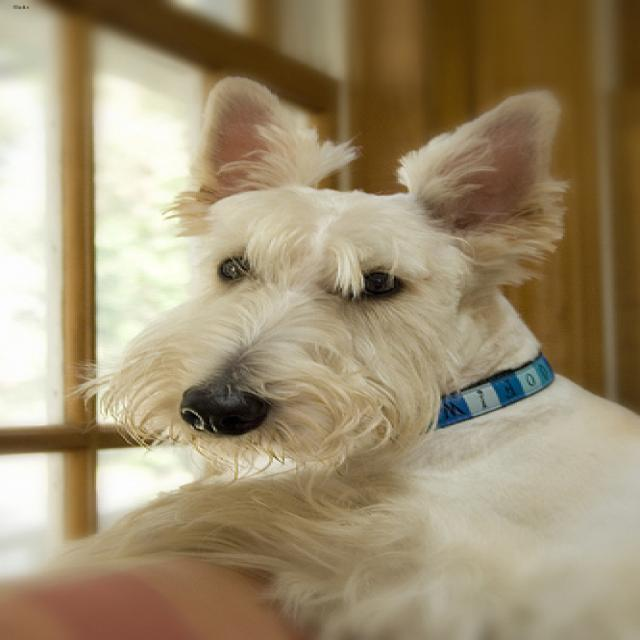dog-scottish_terrier: (27, 64, 636, 637)
